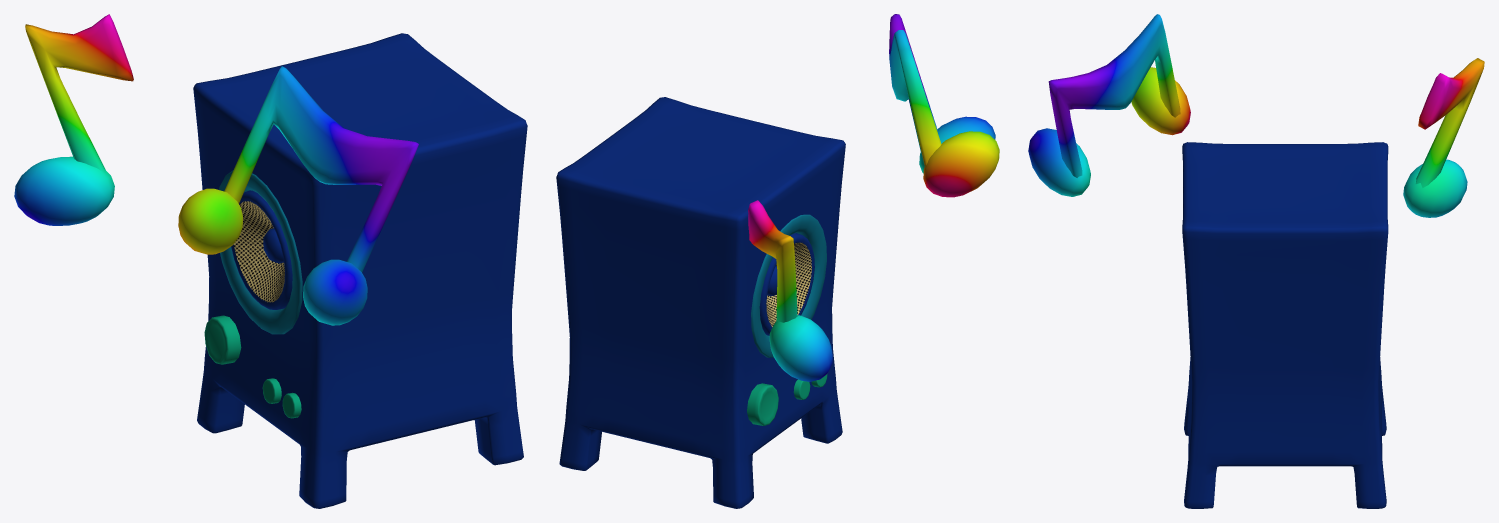
3 views of the same model, side by side, from view 1: azimuth 30°, elevation 25°; view 2: azimuth 150°, elevation 25°; view 3: azimuth 270°, elevation 25° (orthographic). The views are drawn at different scales.
Visible parts, largest first — view 1: export notes.001; view 2: export notes.001; view 3: export notes.001.
Part boxes in pixels (x1=…): export notes.001: x1=14, y1=14, x2=527, y2=508; export notes.001: x1=556, y1=14, x2=999, y2=508; export notes.001: x1=1028, y1=14, x2=1484, y2=508.
Bounding box in the file's own units: 256 × 313 × 332.
Materials: 5 (5 with a texture image).
